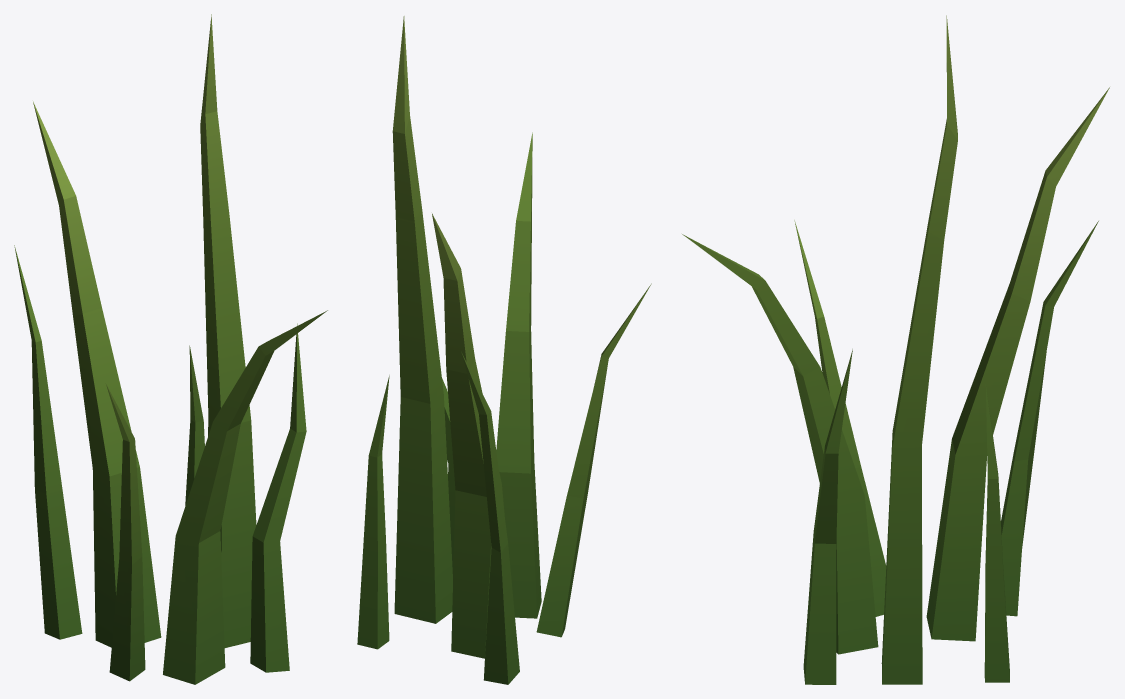
Rendered from Summer_Grass_02.glb.
3 renders of one model, left to right at view 1: azimuth 30°, elevation 25°; view 2: azimuth 150°, elevation 25°; view 3: azimuth 270°, elevation 25°, orthographic. The views are drawn at different scales.
Visible parts, largest first — view 1: Summer_Grass_02_LOD0; view 2: Summer_Grass_02_LOD0; view 3: Summer_Grass_02_LOD0.
Boxes of the visible parts, box(x1,y1,x2,y2) form: Summer_Grass_02_LOD0: box(14, 14, 327, 684); Summer_Grass_02_LOD0: box(357, 16, 651, 684); Summer_Grass_02_LOD0: box(682, 15, 1109, 684).
Size of what is drawn, in the model's own units: 0.1905 by 0.5106 by 0.2991.
Materials: 1 (1 with a texture image).
